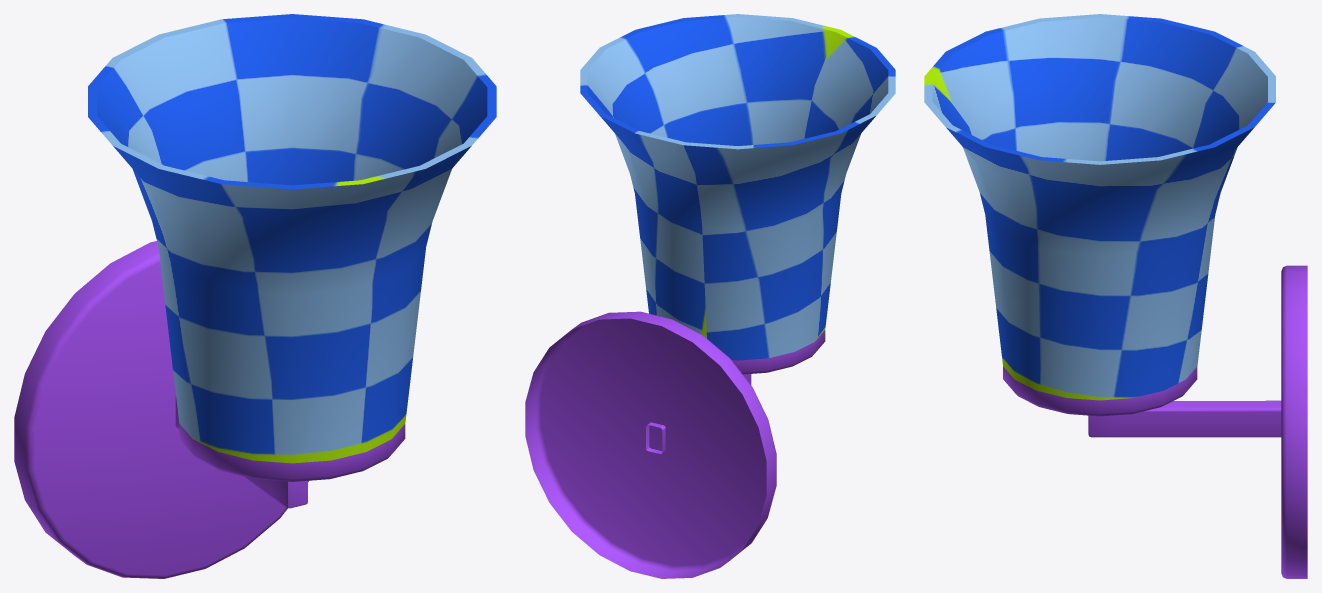
File: LightWall12_3.FBX
The picture shows the model from 3 angles, left to right: view 1: azimuth 30°, elevation 25°; view 2: azimuth 150°, elevation 25°; view 3: azimuth 270°, elevation 25°; orthographic projection. The views are drawn at different scales.
Visible parts, largest first — view 1: LightWall12_3; view 2: LightWall12_3; view 3: LightWall12_3.
Part boxes in pixels (x1,y1,x2,y2): LightWall12_3: [14, 14, 496, 578]; LightWall12_3: [525, 14, 895, 578]; LightWall12_3: [924, 14, 1307, 578].
Bounding box in the file's own units: 18.41 × 26.99 × 19.76.
